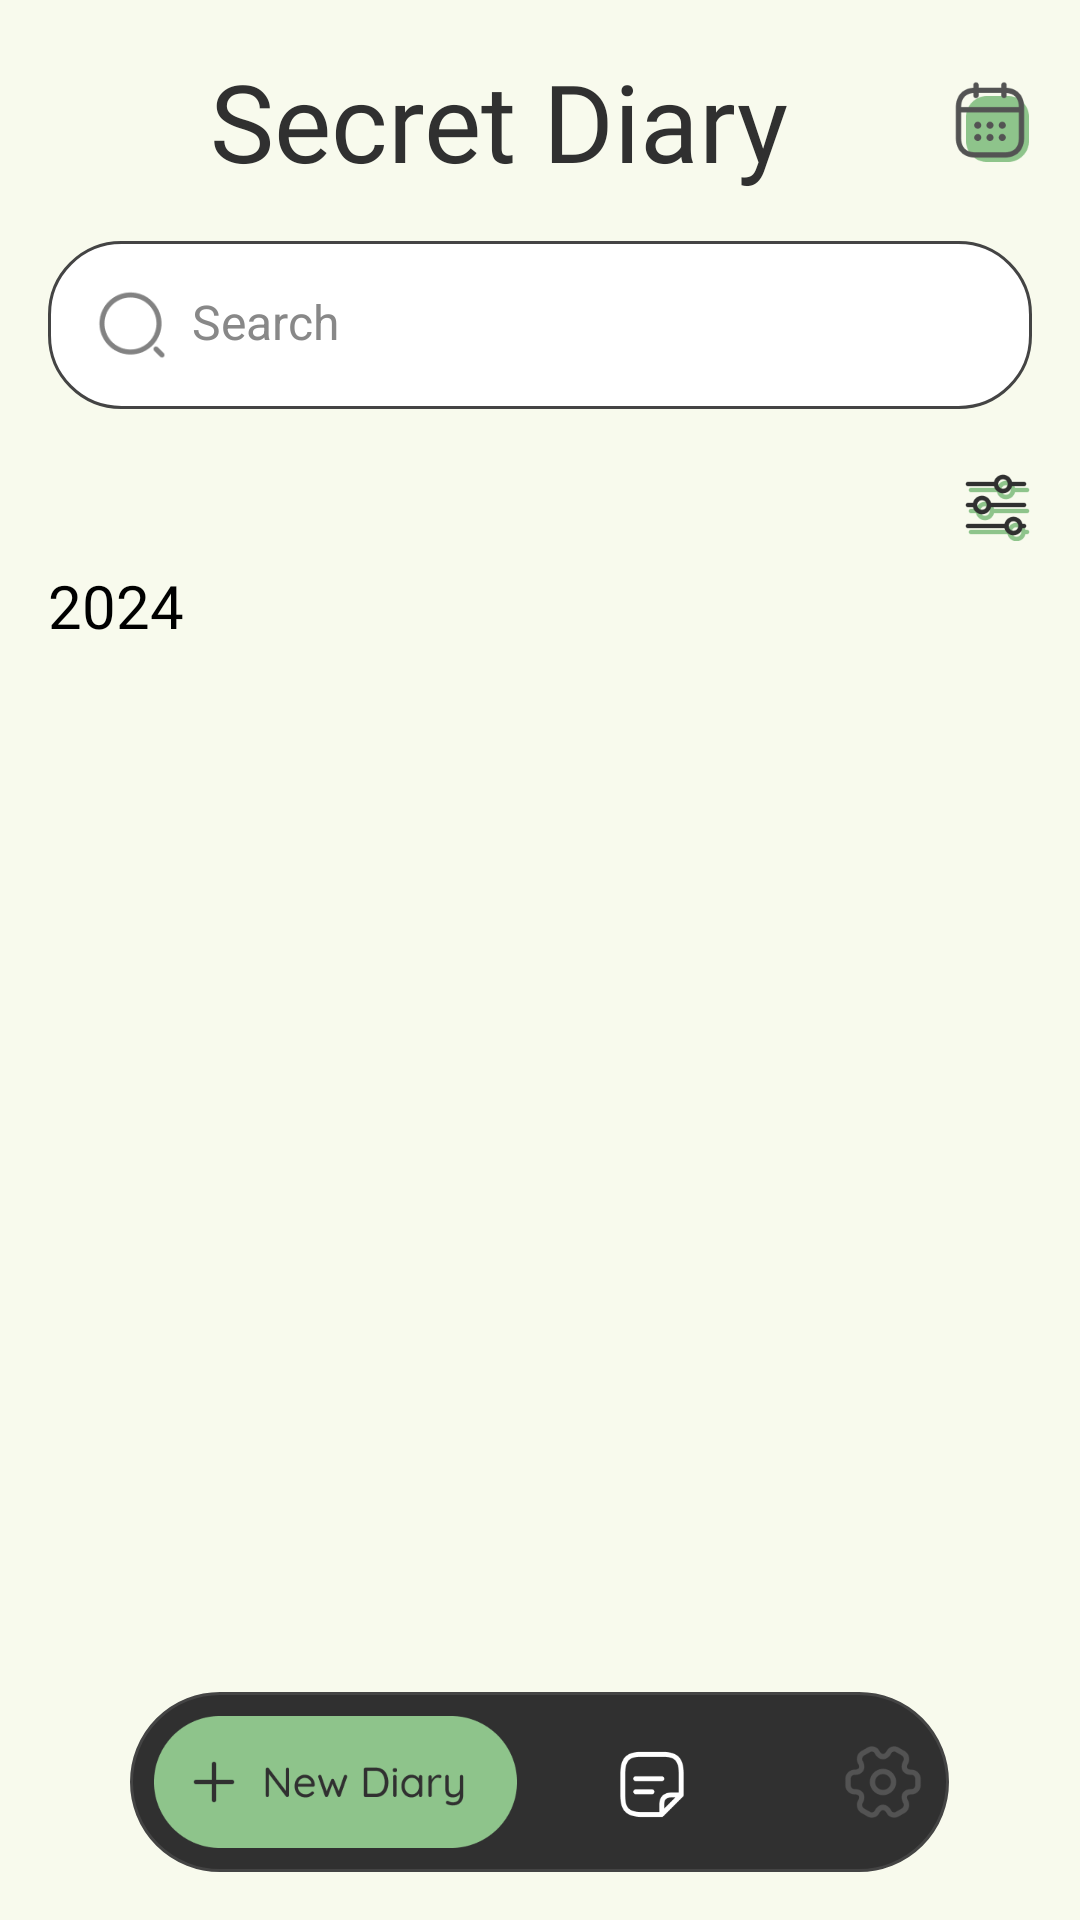

Named icons in this screenshot (1080 × 1920) and their bounding boxes, (x1, y1, x2, y2):
calendar: (955, 82, 1029, 162)
setting: (846, 1747, 920, 1817)
stickynote: (620, 1752, 684, 1817)
